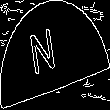N_S: (39, 26, 71, 84)
